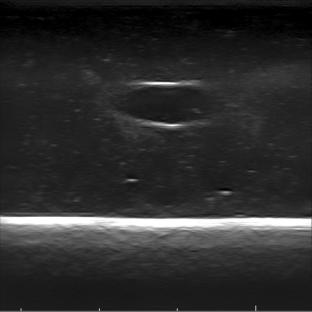vessel: (122, 80, 213, 131)
